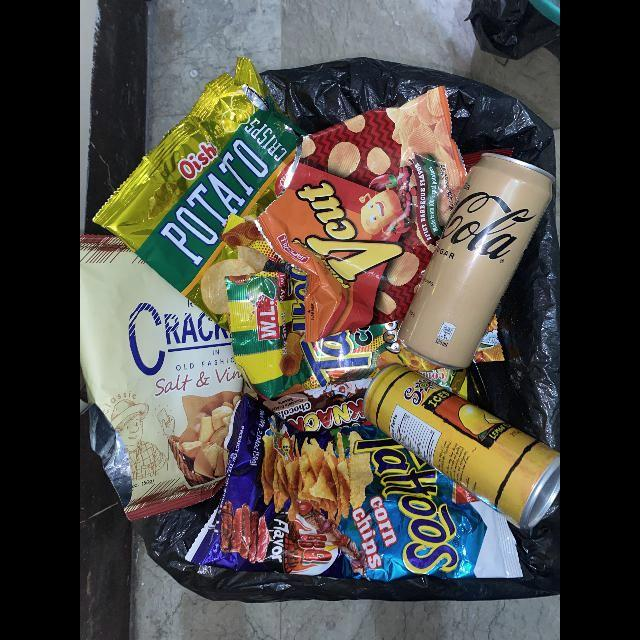aluminum: (397, 153, 554, 371), (364, 364, 560, 530)
food_wrapper: (185, 395, 523, 582), (93, 58, 304, 333), (257, 86, 467, 344), (80, 235, 244, 522), (225, 272, 442, 401), (263, 378, 372, 432), (473, 319, 506, 363)
